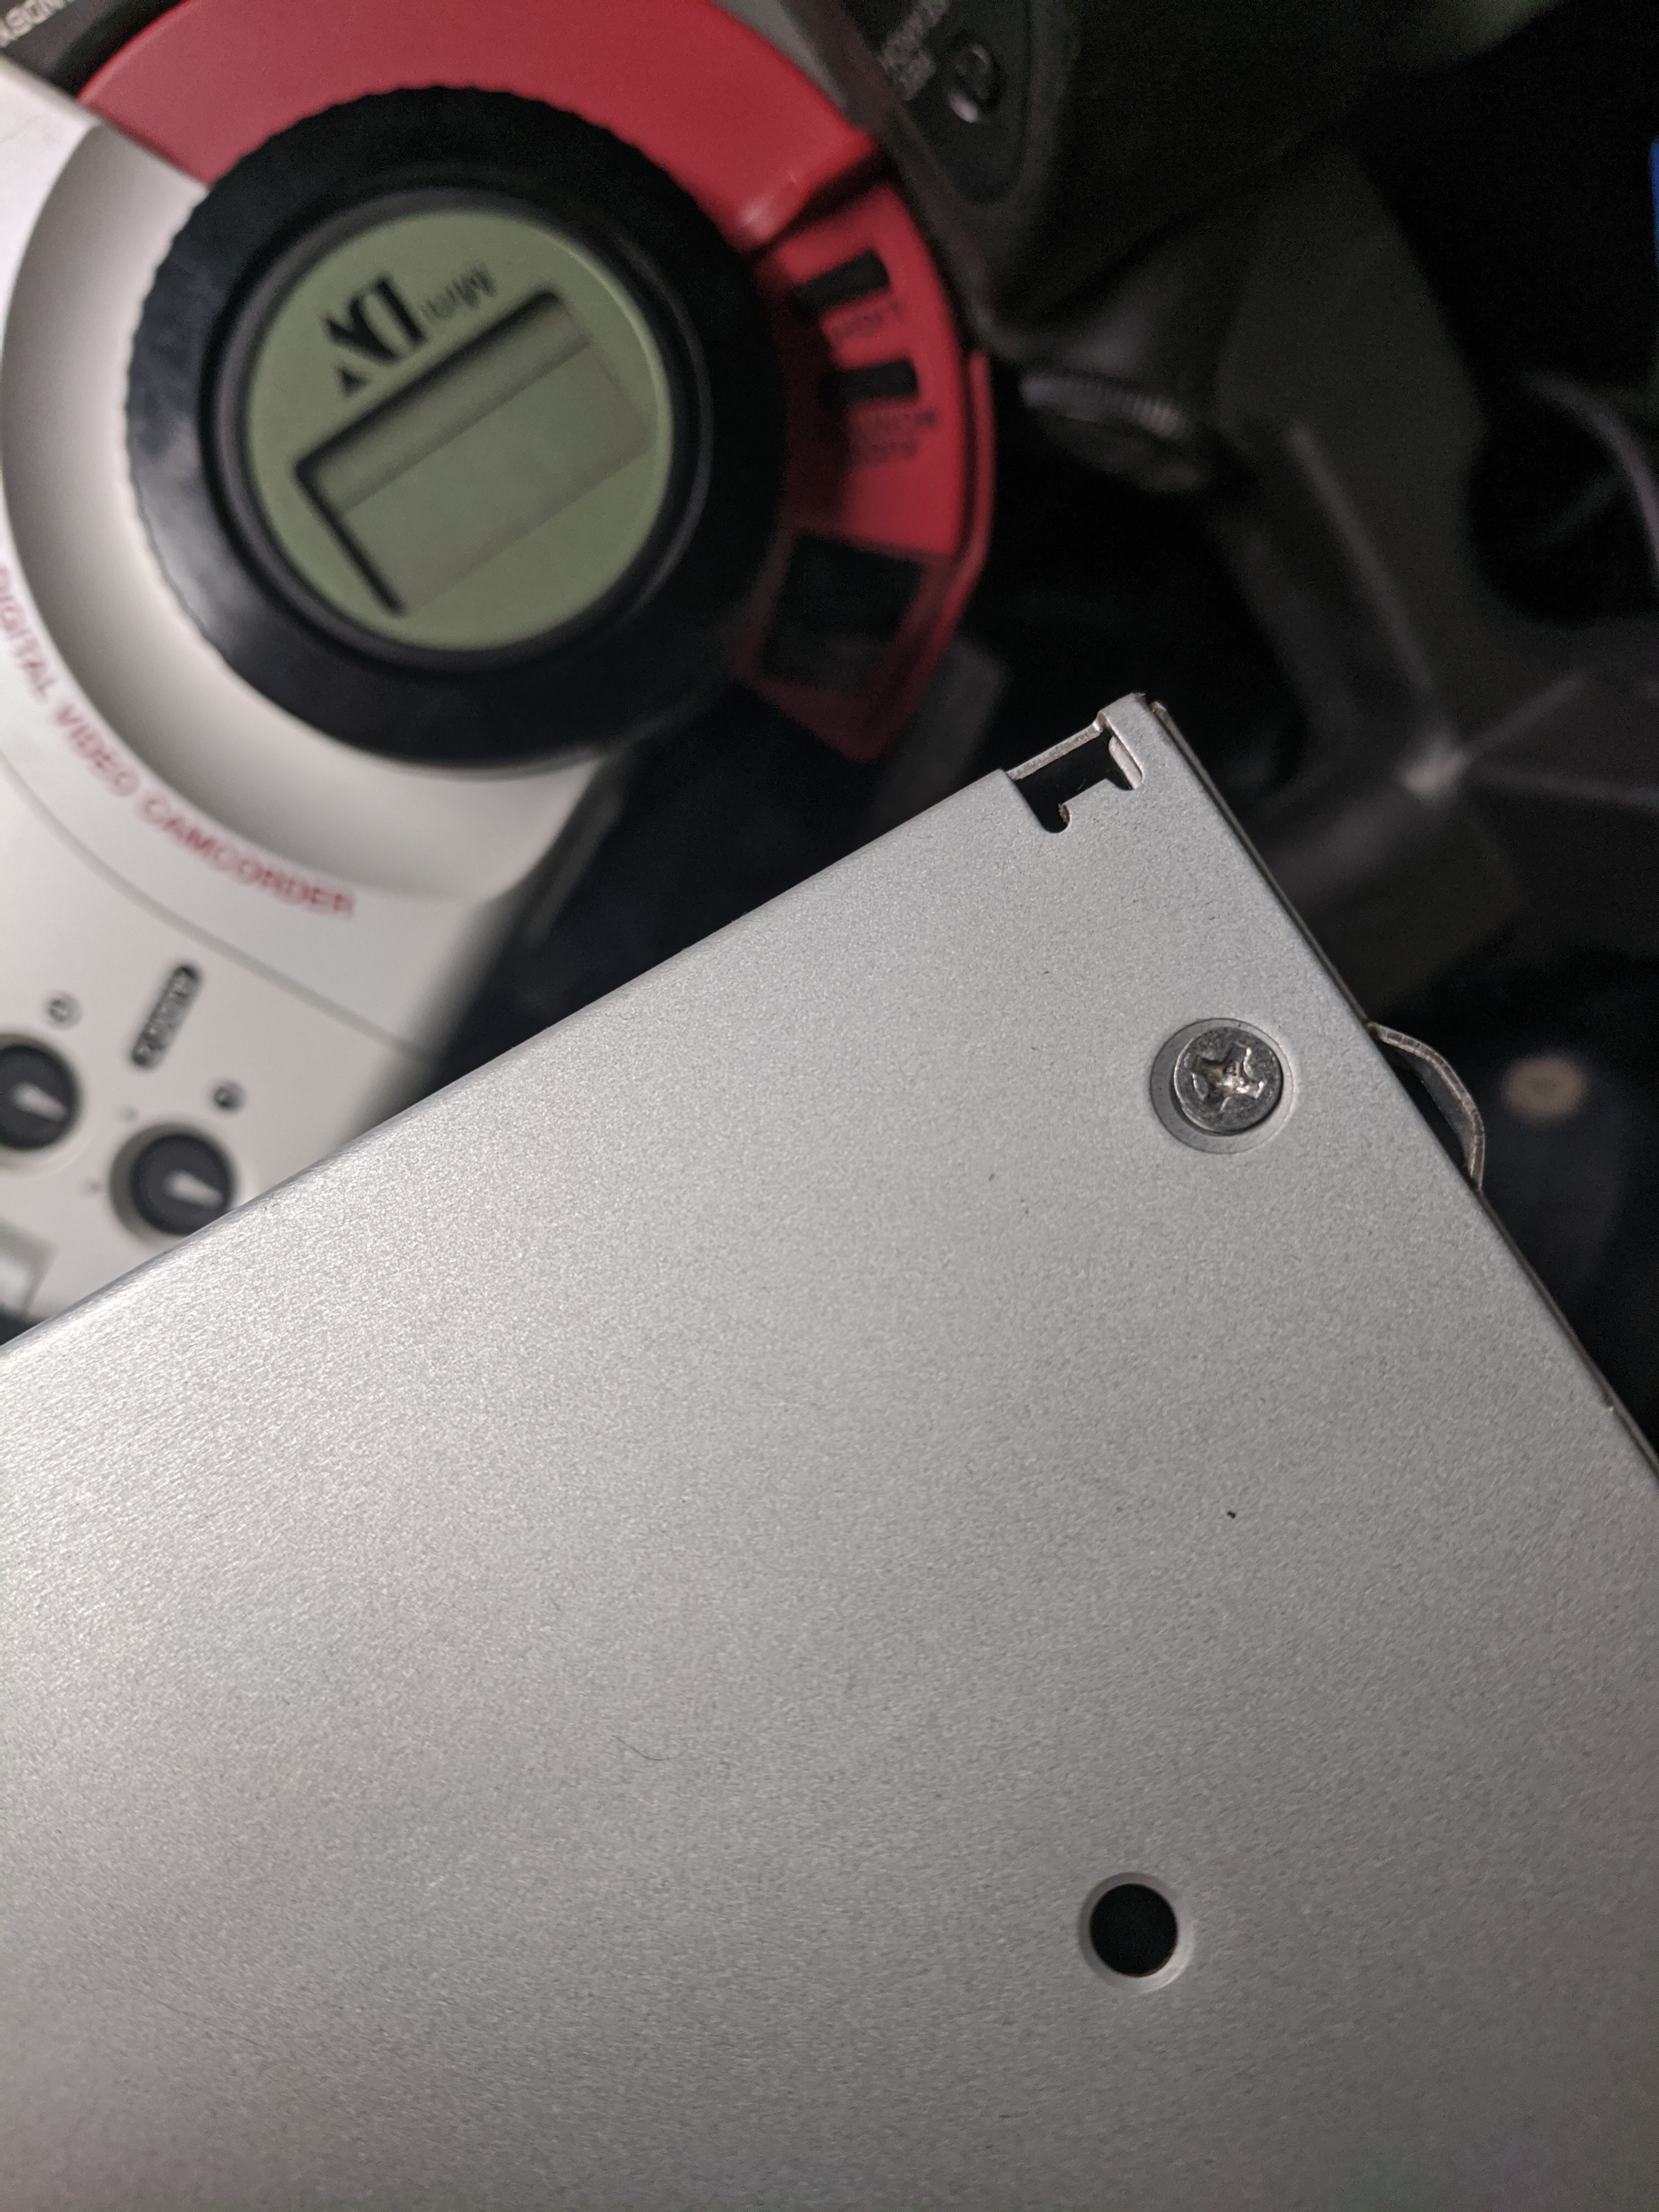cross_recessed_screw: (1152, 1005, 1291, 1144)
